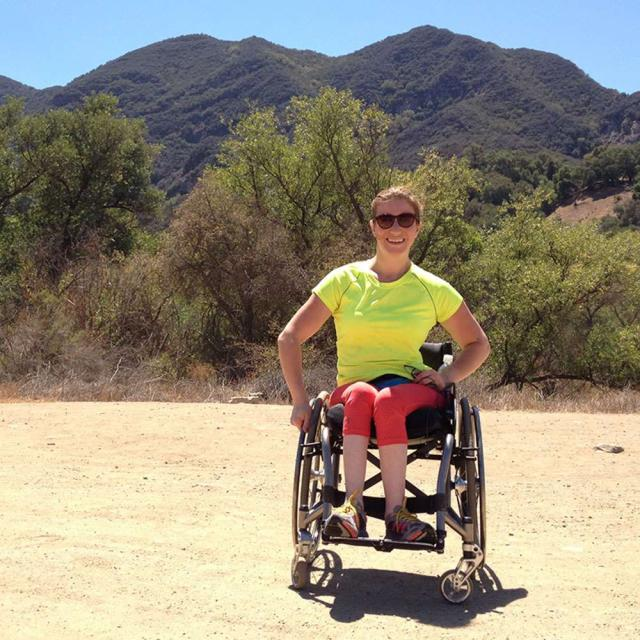wheelchairs: (284, 336, 506, 612)
